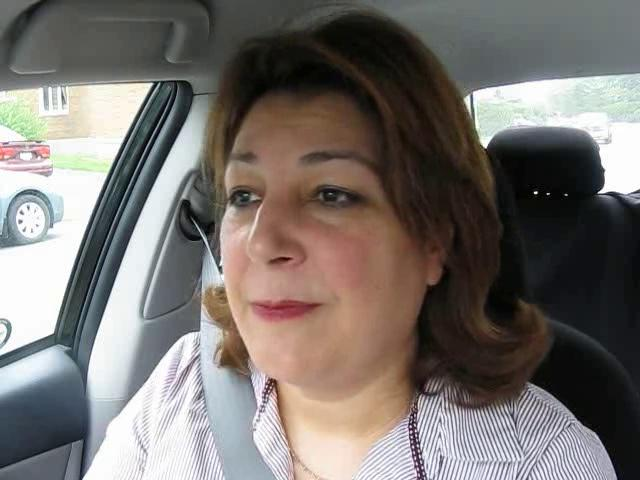no_yawn: (228, 281, 341, 342)
open_eyeL: (218, 180, 276, 221)
open_eyeR: (290, 174, 379, 224)
